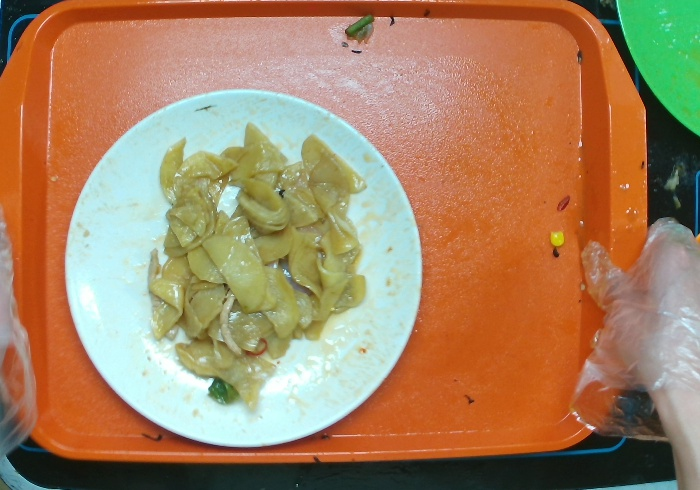HZYJPL-Bai_Se_Yuan_Pan: (65, 89, 425, 447)
